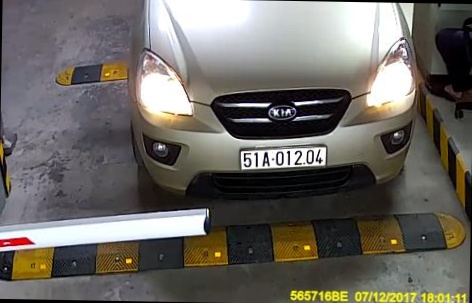plate: (240, 139, 330, 174)
